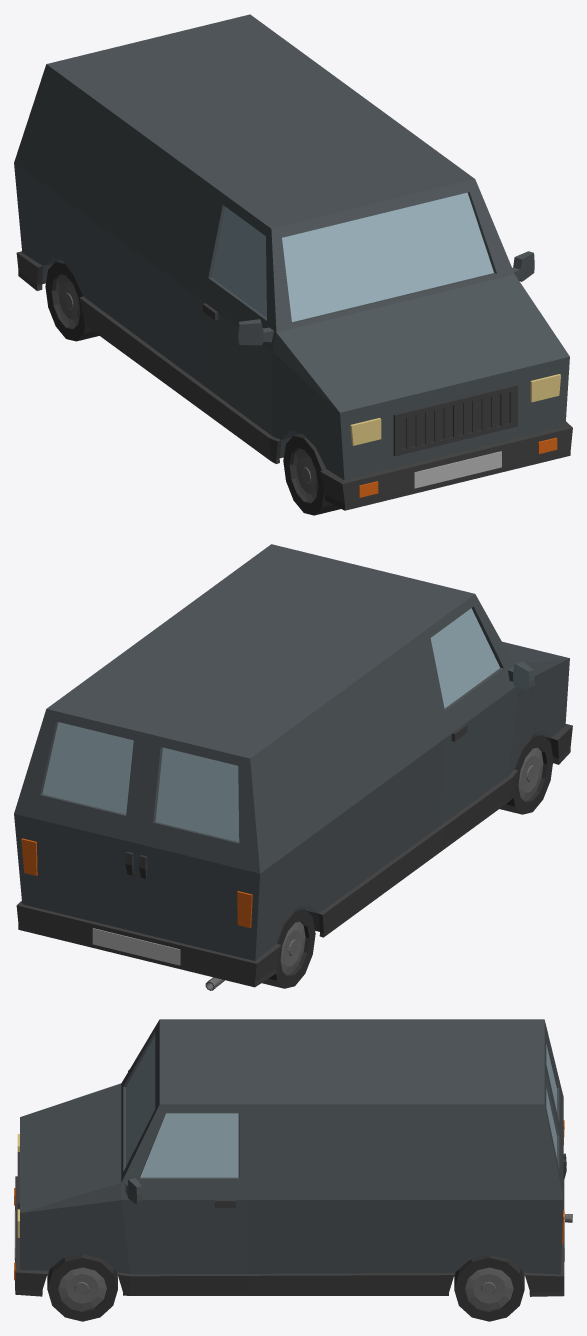
File: car-4.fbx
3 renders of one model, top to bottom at view 1: azimuth 30°, elevation 25°; view 2: azimuth 150°, elevation 25°; view 3: azimuth 270°, elevation 25°, orthographic. The views are drawn at different scales.
Parts seen in each view (by area): view 1: Car4, Car4Wheel-FR, Car4Wheel-RR; view 2: Car4, Car4Wheel-FR, Car4Wheel-RR; view 3: Car4, Car4Wheel-FL, Car4Wheel-RL.
Boxes of the visible parts, bbox=[...] form: Car4: bbox=[14, 14, 572, 510]; Car4Wheel-FR: bbox=[283, 433, 340, 515]; Car4Wheel-RR: bbox=[45, 260, 99, 341]; Car4: bbox=[14, 544, 572, 990]; Car4Wheel-FR: bbox=[500, 733, 553, 814]; Car4Wheel-RR: bbox=[262, 907, 315, 988]; Car4: bbox=[14, 1019, 572, 1296]; Car4Wheel-FL: bbox=[47, 1254, 117, 1321]; Car4Wheel-RL: bbox=[454, 1255, 524, 1321].
Size of the model in its own units: 230 by 185 by 441.
